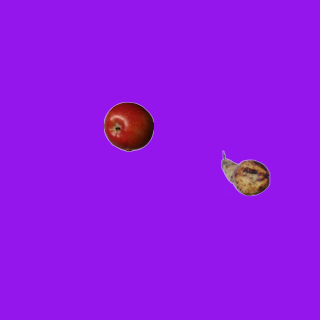Apple Braeburn: (103, 101, 153, 151)
Pear Abate: (220, 148, 270, 198)
